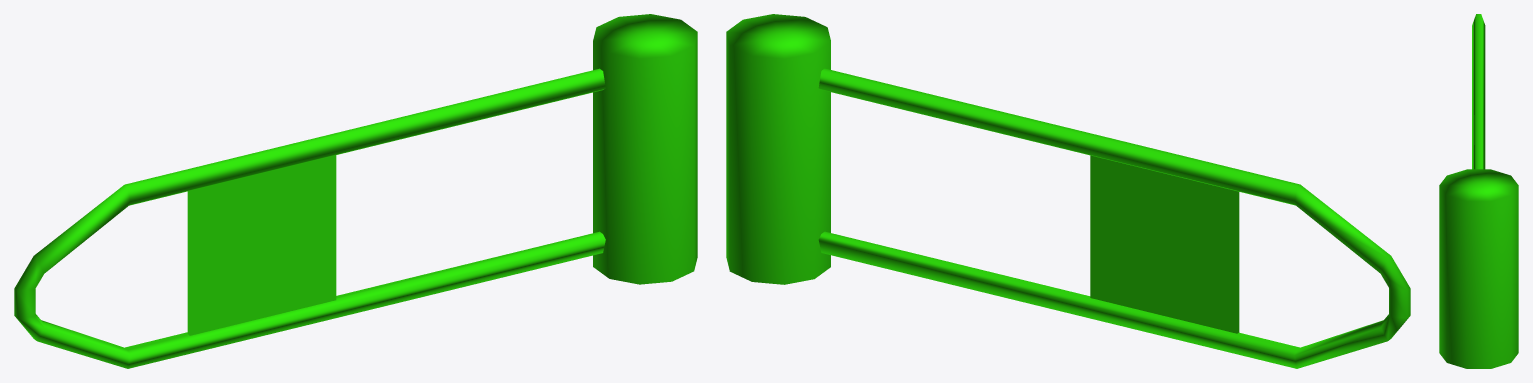
The model's file is Supermarket_Fence_01_Door_Lod1.fbx.
The picture shows the model from 3 angles, left to right: view 1: azimuth 30°, elevation 25°; view 2: azimuth 150°, elevation 25°; view 3: azimuth 270°, elevation 25°; orthographic projection. The views are drawn at different scales.
Visible parts, largest first — view 1: Supermarket_Fence_01_Door_Lod1; view 2: Supermarket_Fence_01_Door_Lod1; view 3: Supermarket_Fence_01_Door_Lod1.
Boxes of the visible parts, x1,y1,x2,y2 form: Supermarket_Fence_01_Door_Lod1: (14,14,697,368); Supermarket_Fence_01_Door_Lod1: (726,14,1410,368); Supermarket_Fence_01_Door_Lod1: (1439,14,1518,368).
Bounding box in the file's own units: 75.82 × 24.28 × 10.43.
